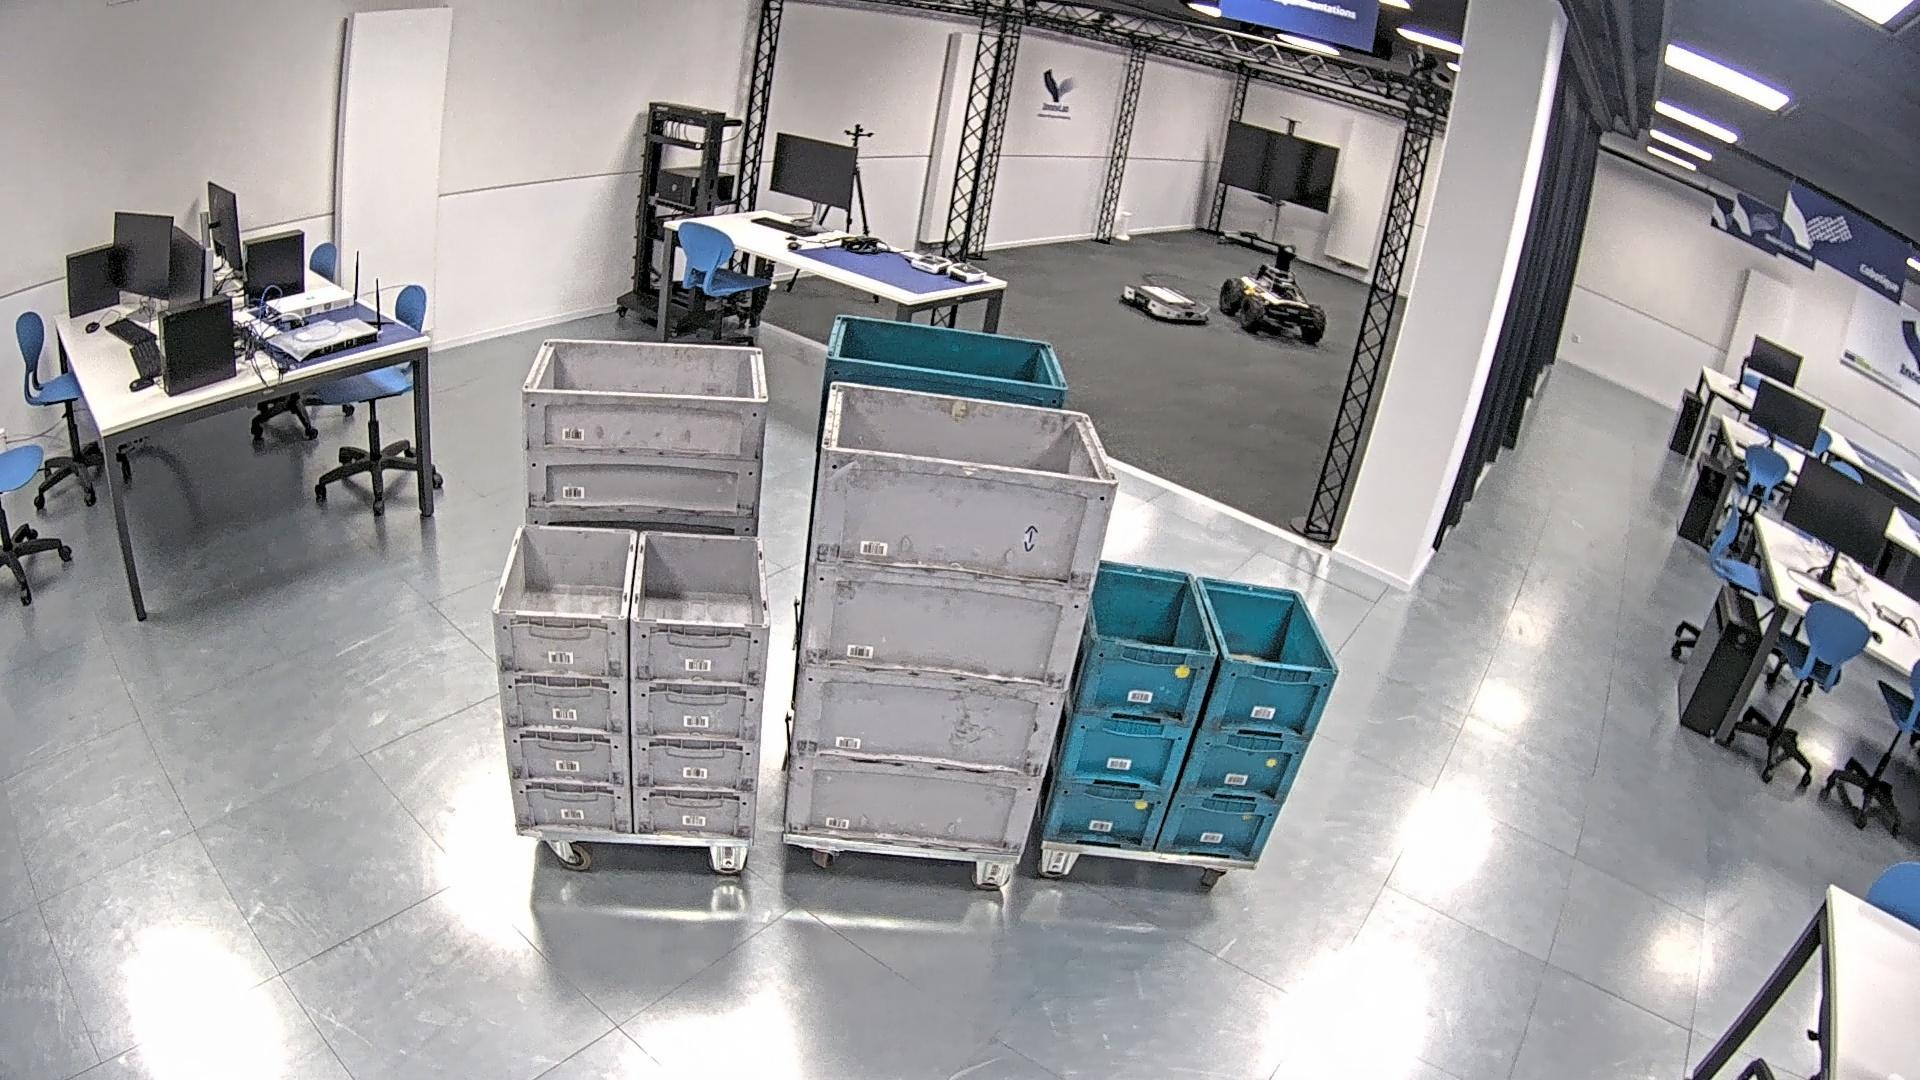Box3G: (517, 335, 781, 738)
Box4G: (778, 377, 1118, 862)
Box8G: (488, 518, 775, 849)
BoxB4: (789, 310, 1075, 793)
BoxB8: (1033, 553, 1342, 866)
